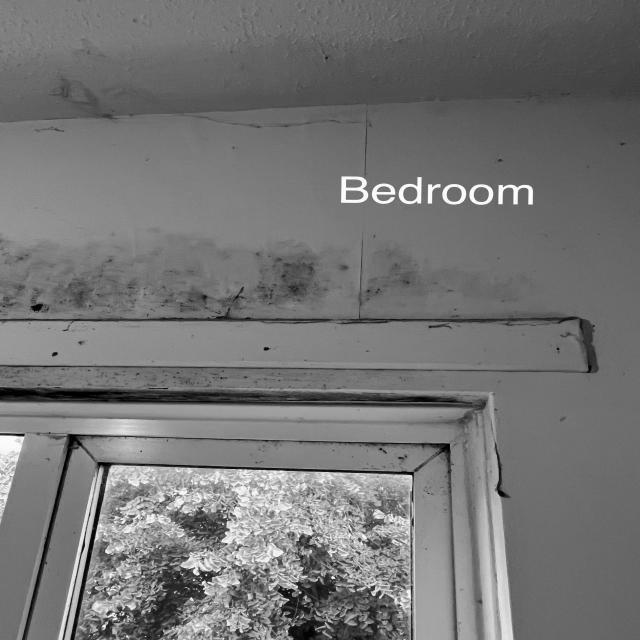pin holes: (314, 40, 336, 73), (490, 153, 509, 170), (44, 343, 63, 360), (258, 340, 281, 354), (612, 138, 632, 154), (551, 342, 569, 359), (74, 339, 90, 349)
stain marks: (1, 228, 560, 328), (176, 32, 638, 126), (0, 358, 491, 413), (32, 13, 169, 136)
